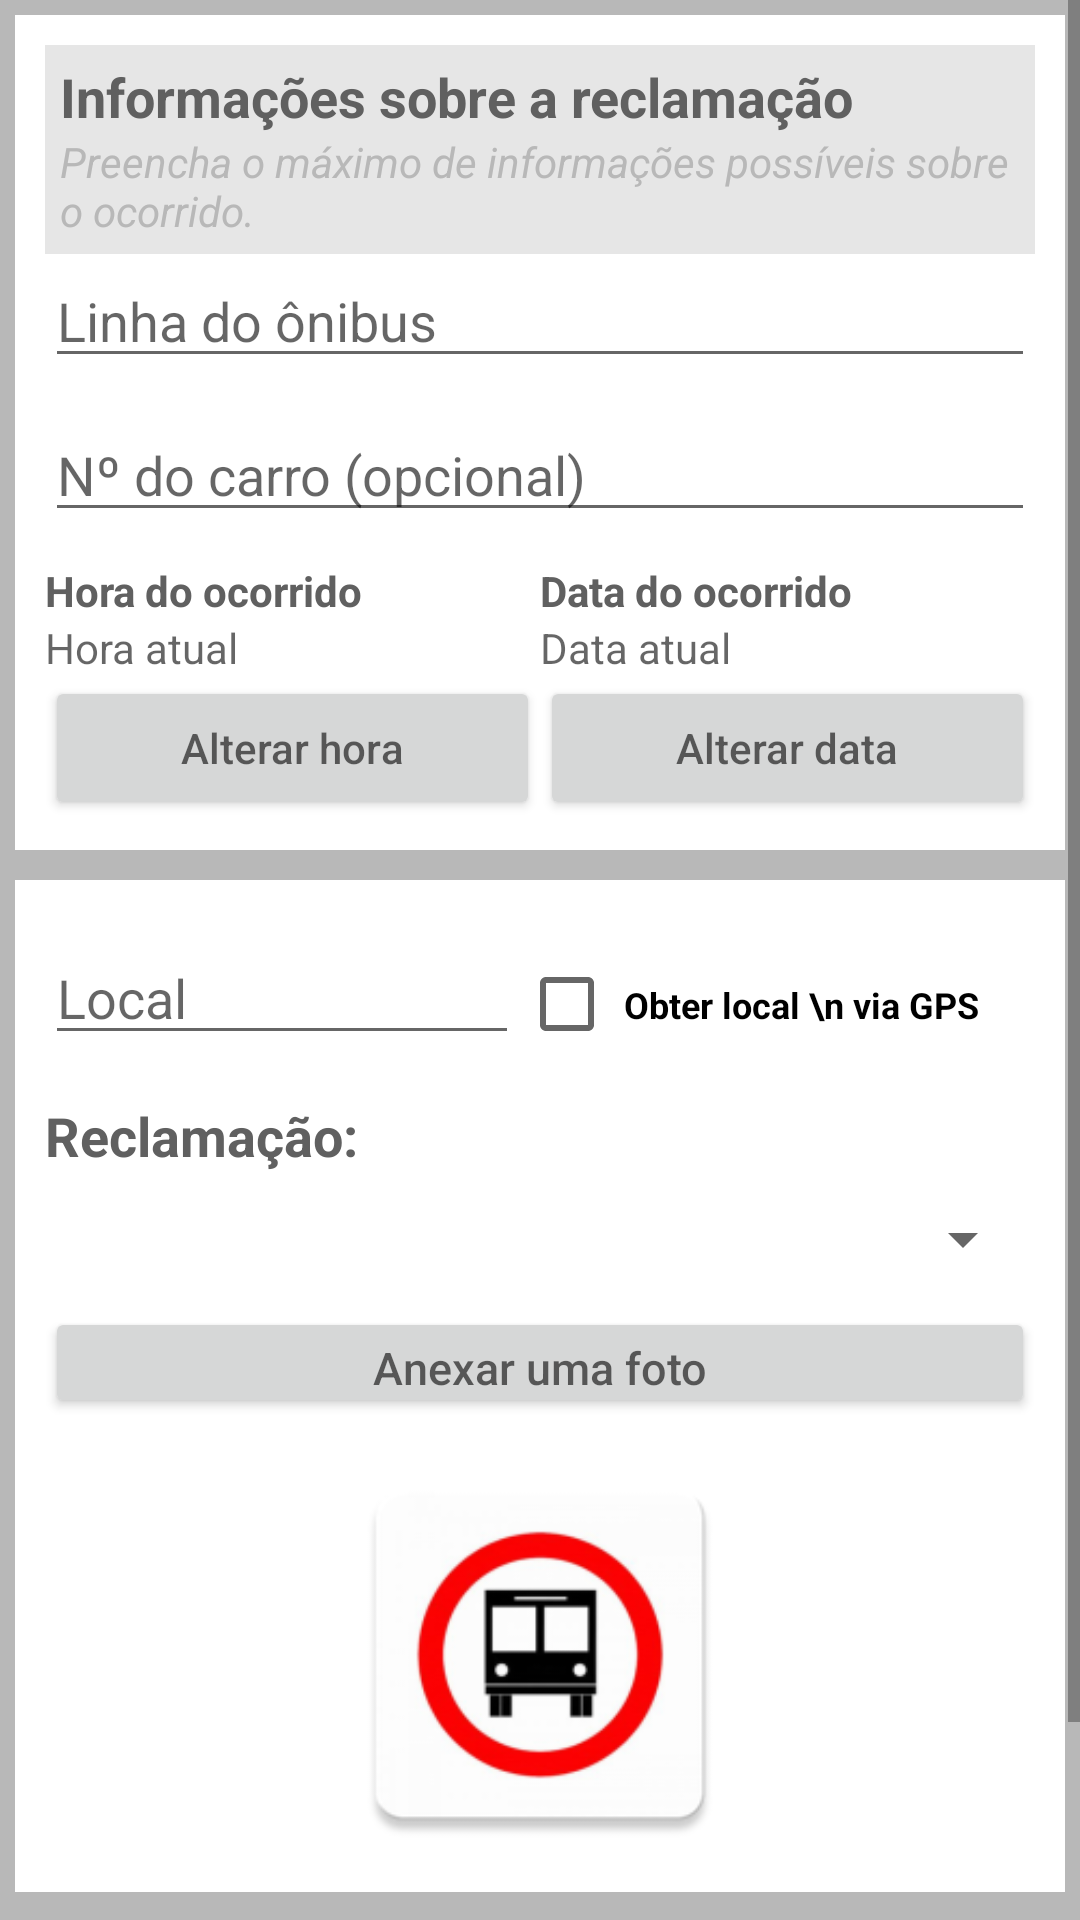

Icon click points for this 1080px x 1920px phone screenshot, format [x,y]:
onibus: [541,1667]
